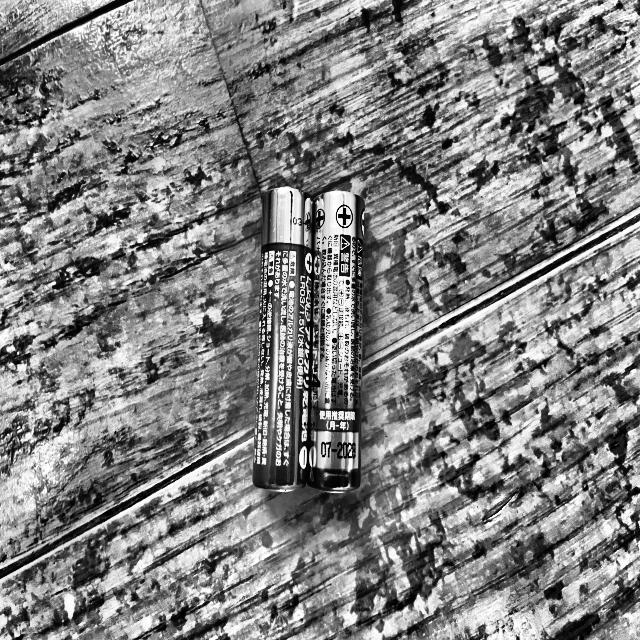drycell: (253, 186, 313, 492), (309, 190, 365, 492)
